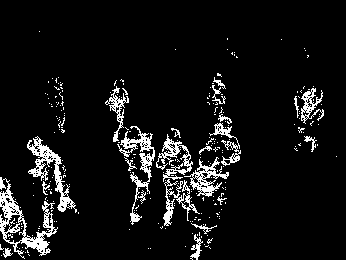person: (26, 137, 84, 235), (190, 148, 227, 259), (118, 127, 154, 224), (159, 125, 192, 220), (294, 87, 326, 151), (105, 78, 134, 145), (209, 120, 245, 164), (208, 71, 232, 116)
